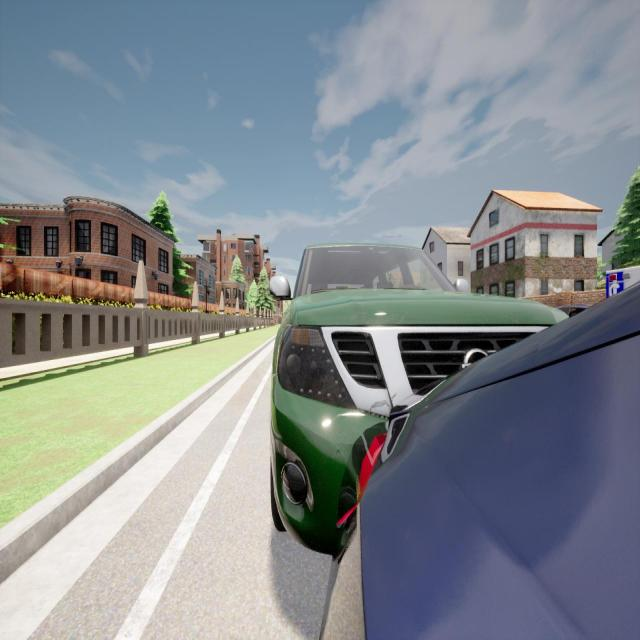Vehicle: (318, 285, 640, 640), (270, 238, 570, 551), (604, 266, 640, 303), (556, 305, 591, 323)
